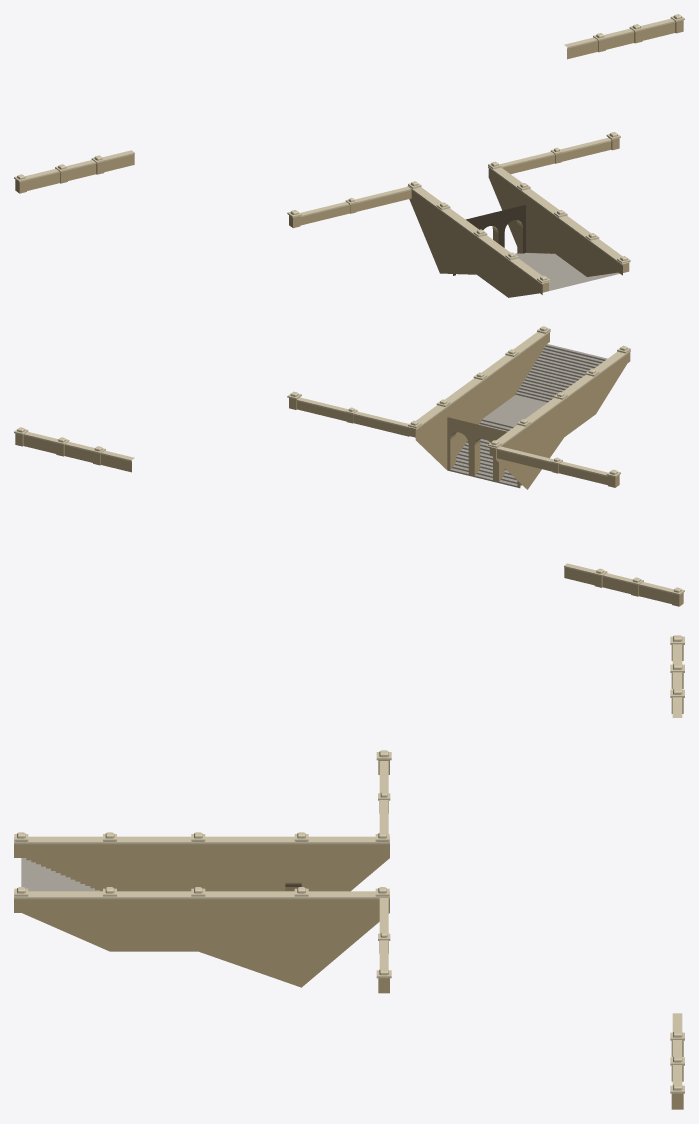
Rendered from nyc-bethesda-terrace-mall.glb.
The picture shows the model from 3 angles, top to bottom: view 1: azimuth 30°, elevation 25°; view 2: azimuth 150°, elevation 25°; view 3: azimuth 270°, elevation 25°; orthographic projection. The views are drawn at different scales.
Parts seen in each view (by area): view 1: Bethesda Terrace, Mall level; view 2: Bethesda Terrace, Mall level; view 3: Bethesda Terrace, Mall level.
Part boxes in pixels (x1=…): Bethesda Terrace, Mall level: x1=14, y1=14, x2=684, y2=297; Bethesda Terrace, Mall level: x1=14, y1=326, x2=684, y2=606; Bethesda Terrace, Mall level: x1=14, y1=635, x2=684, y2=1109.
Size of the model in its own units: 73 by 7.25 by 45.5.
